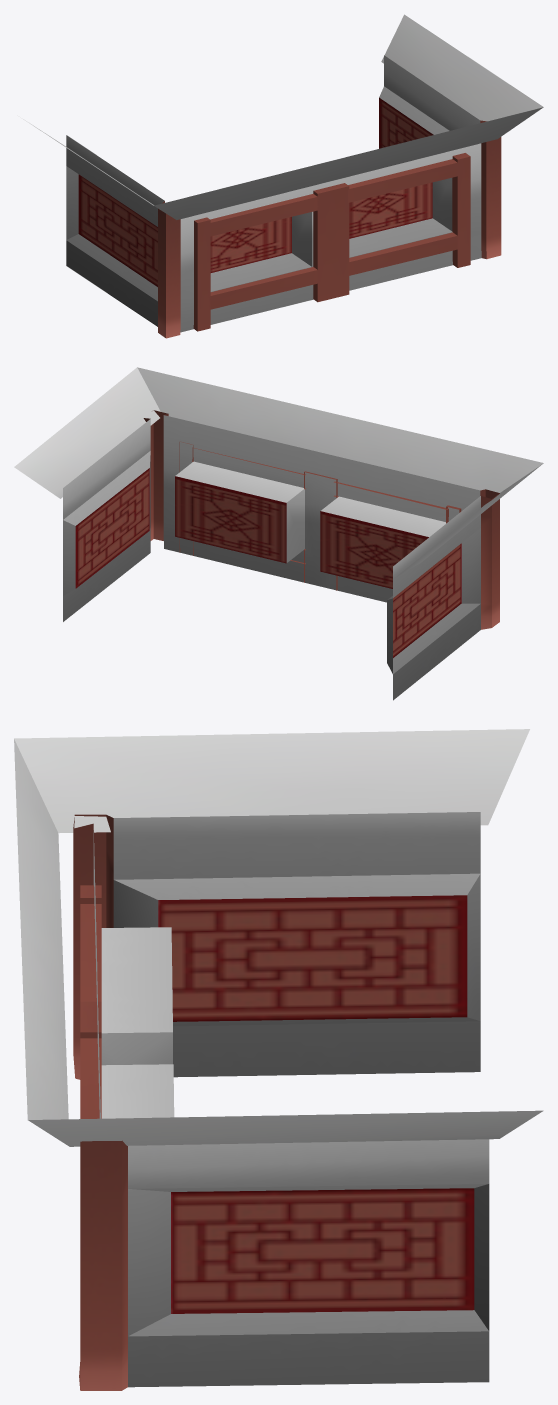
File: floor2_blacksmith.fbx
3 renders of one model, top to bottom at view 1: azimuth 30°, elevation 25°; view 2: azimuth 150°, elevation 25°; view 3: azimuth 270°, elevation 25°, orthographic. The views are drawn at different scales.
Visible parts, largest first — view 1: floor2_blacksmith; view 2: floor2_blacksmith; view 3: floor2_blacksmith.
Part boxes in pixels (x1=…): floor2_blacksmith: x1=23, y1=14, x2=543, y2=338; floor2_blacksmith: x1=14, y1=367, x2=543, y2=700; floor2_blacksmith: x1=14, y1=729, x2=543, y2=1390.
Bounding box in the file's own units: 4.78 × 1.73 × 2.74.
